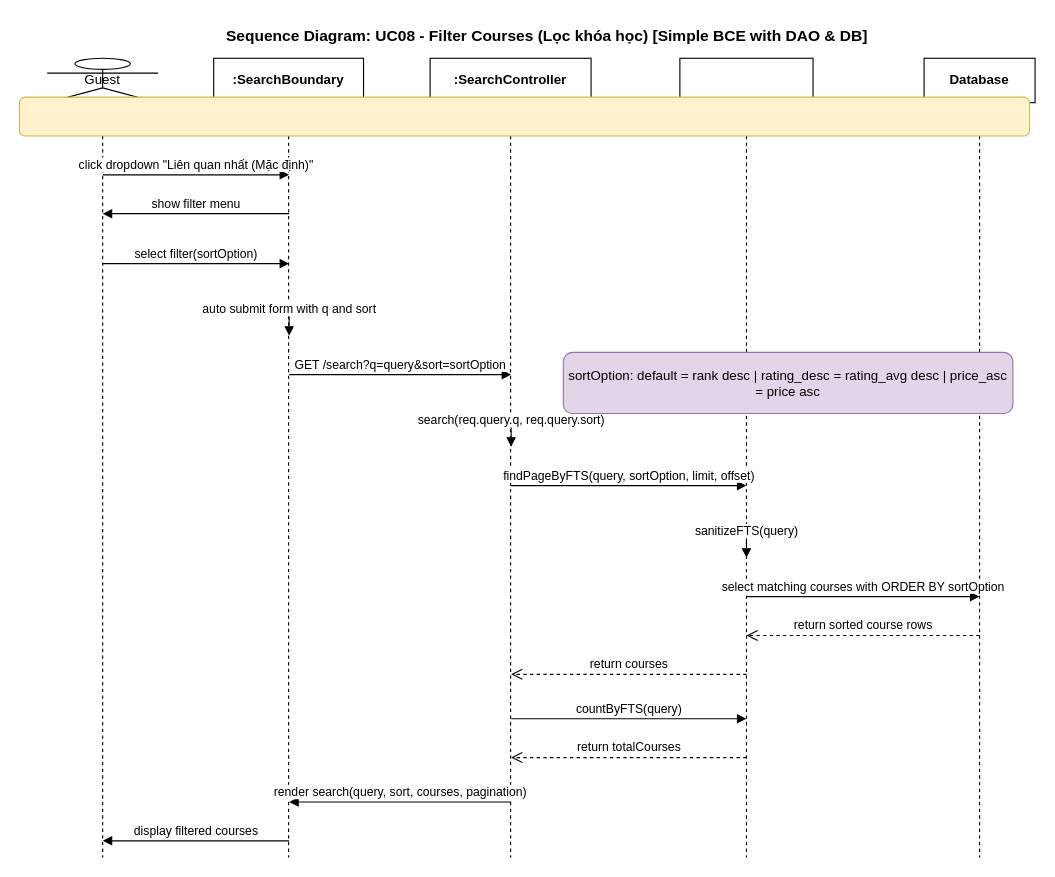
This 1055x877 diagram has some shape labels left out. The shapes that lost their labels are listed below. From the top down, each one's box as (x1, y1, x2, y2) in pixels, then its label:
(18, 96, 1030, 136): Pre-condition: Guest đã sử dụng thanh search, trang /search?q=... đang hiển thị.
(679, 57, 813, 857): :CourseDAO
